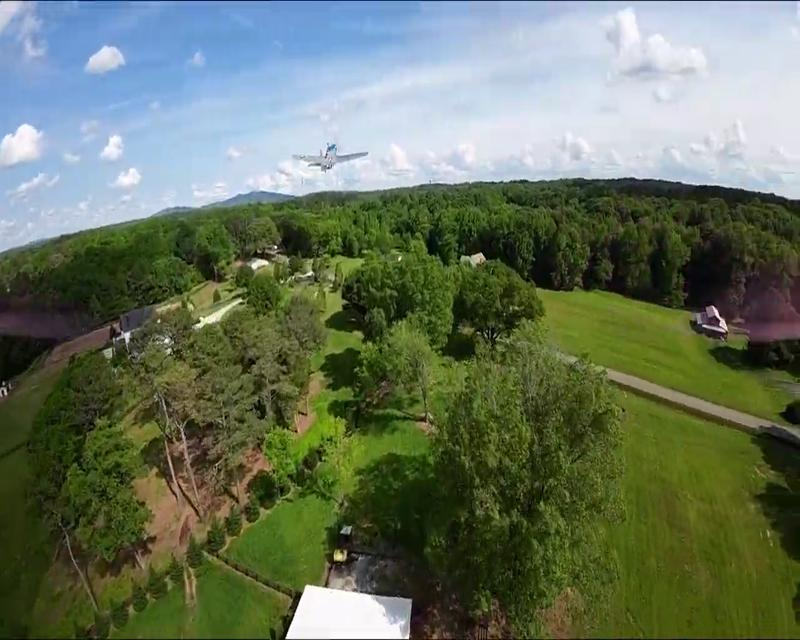UAV: (292, 142, 369, 173)
